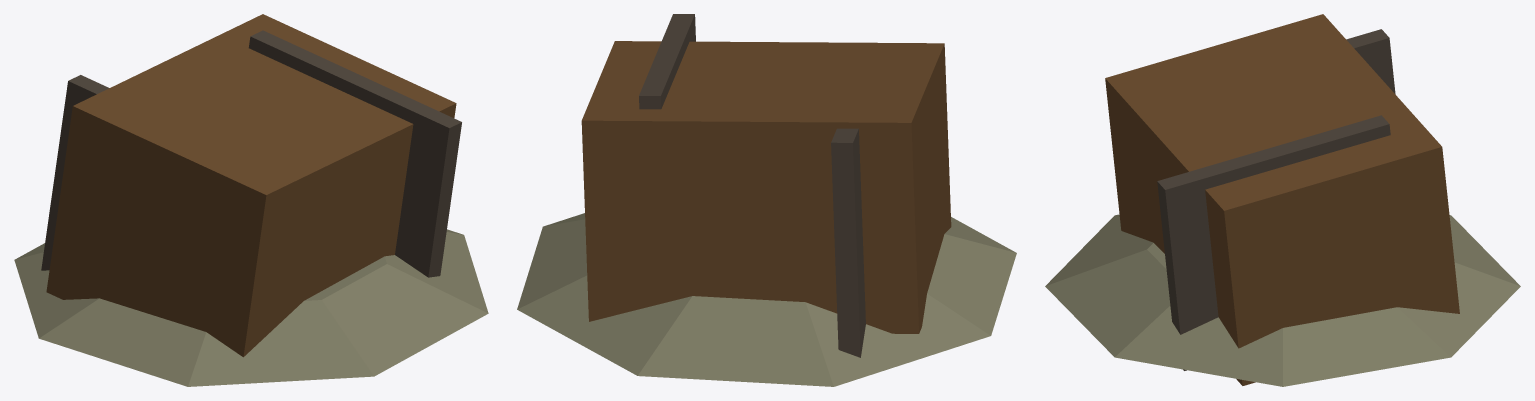
Rendered from relic_crate.glb.
3 renders of one model, left to right at view 1: azimuth 30°, elevation 25°; view 2: azimuth 150°, elevation 25°; view 3: azimuth 270°, elevation 25°, orthographic. The views are drawn at different scales.
Parts seen in each view (by area): view 1: relic_crate; view 2: relic_crate; view 3: relic_crate.
Boxes of the visible parts, x1,y1,x2,y2 form: relic_crate: (14,14,488,386); relic_crate: (517,14,1016,386); relic_crate: (1045,14,1520,386).
Bounding box in the file's own units: 1.4 × 0.7236 × 1.4.
